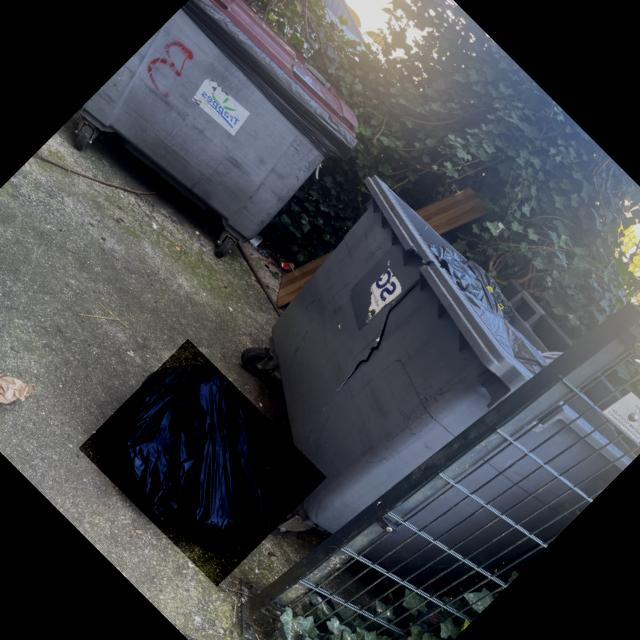Garbage bag: (109, 363, 272, 551)
